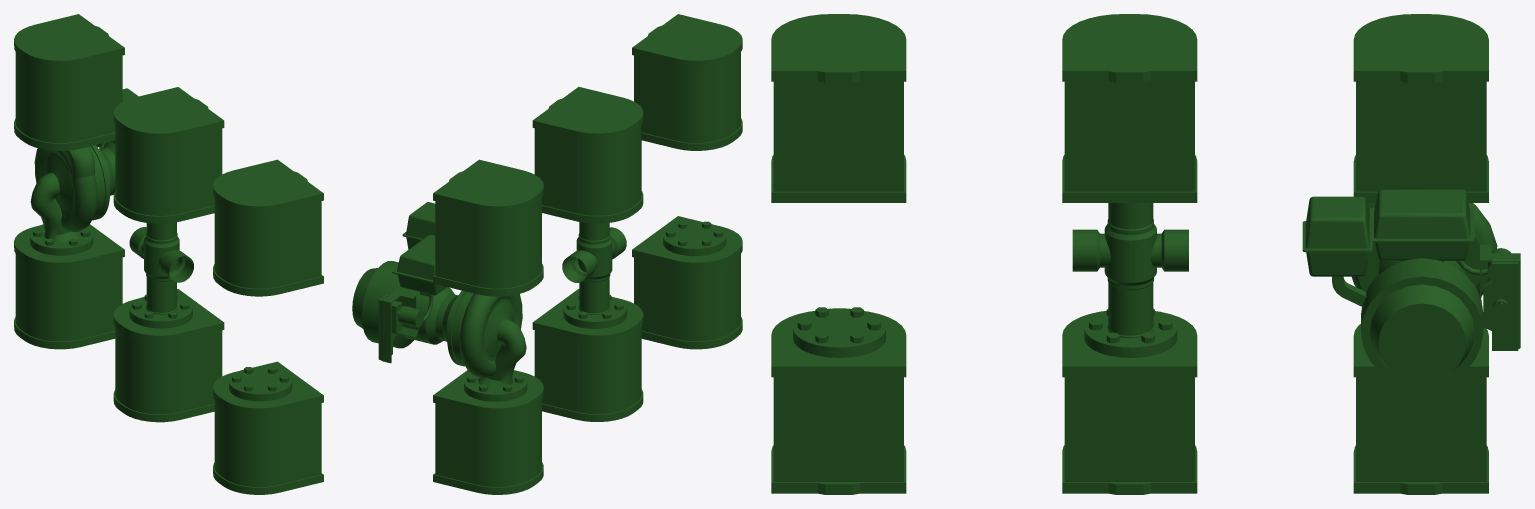
File: Pump-Central-1.fbx
The picture shows the model from 3 angles, left to right: view 1: azimuth 30°, elevation 25°; view 2: azimuth 150°, elevation 25°; view 3: azimuth 270°, elevation 25°; orthographic projection. The views are drawn at different scales.
Parts seen in each view (by area): view 1: Pump-Central-1_Inflow-1, Pump-Central-1_Inflow-3, Pump-Central-1_Inflow-2, Pump-Central-1_Outflow-1, Pump-Central-1_Outflow-2, Pump-Central-1_Outflow-3, PumpRoom-PetrolEngine-2, Pump-Central-1_Main-1; view 2: PumpRoom-PetrolEngine-2, Pump-Central-1_Inflow-3, Pump-Central-1_Inflow-2, Pump-Central-1_Inflow-1, Pump-Central-1_Outflow-1, Pump-Central-1_Outflow-3, Pump-Central-1_Outflow-2, Pump-Central-1_Main-1; view 3: PumpRoom-PetrolEngine-2, Pump-Central-1_Inflow-1, Pump-Central-1_Inflow-2, Pump-Central-1_Outflow-1, Pump-Central-1_Inflow-3, Pump-Central-1_Outflow-2, Pump-Central-1_Outflow-3, Pump-Central-1_Main-1.
Part boxes in pixels (x1,y1,x2,y2): Pump-Central-1_Inflow-1: (213,159,323,296); Pump-Central-1_Inflow-3: (14,14,124,150); Pump-Central-1_Inflow-2: (113,87,224,223); Pump-Central-1_Outflow-1: (213,361,323,494); Pump-Central-1_Outflow-2: (113,289,224,422); Pump-Central-1_Outflow-3: (14,224,124,349); PumpRoom-PetrolEngine-2: (30,88,138,242); Pump-Central-1_Main-1: (129,222,193,314); PumpRoom-PetrolEngine-2: (352,202,526,388); Pump-Central-1_Inflow-3: (433,159,543,296); Pump-Central-1_Inflow-2: (532,87,643,223); Pump-Central-1_Inflow-1: (632,14,742,150); Pump-Central-1_Outflow-1: (632,216,742,349); Pump-Central-1_Outflow-3: (433,370,543,494); Pump-Central-1_Outflow-2: (532,289,643,421); Pump-Central-1_Main-1: (562,222,626,314); PumpRoom-PetrolEngine-2: (1302,189,1520,387); Pump-Central-1_Inflow-1: (771,14,906,202); Pump-Central-1_Inflow-2: (1062,14,1197,202); Pump-Central-1_Outflow-1: (771,307,906,494); Pump-Central-1_Inflow-3: (1353,14,1488,202); Pump-Central-1_Outflow-2: (1062,308,1197,494); Pump-Central-1_Outflow-3: (1353,324,1488,494); Pump-Central-1_Main-1: (1072,203,1188,338).
Bounding box in the file's own units: 48.88 × 80 × 129.
